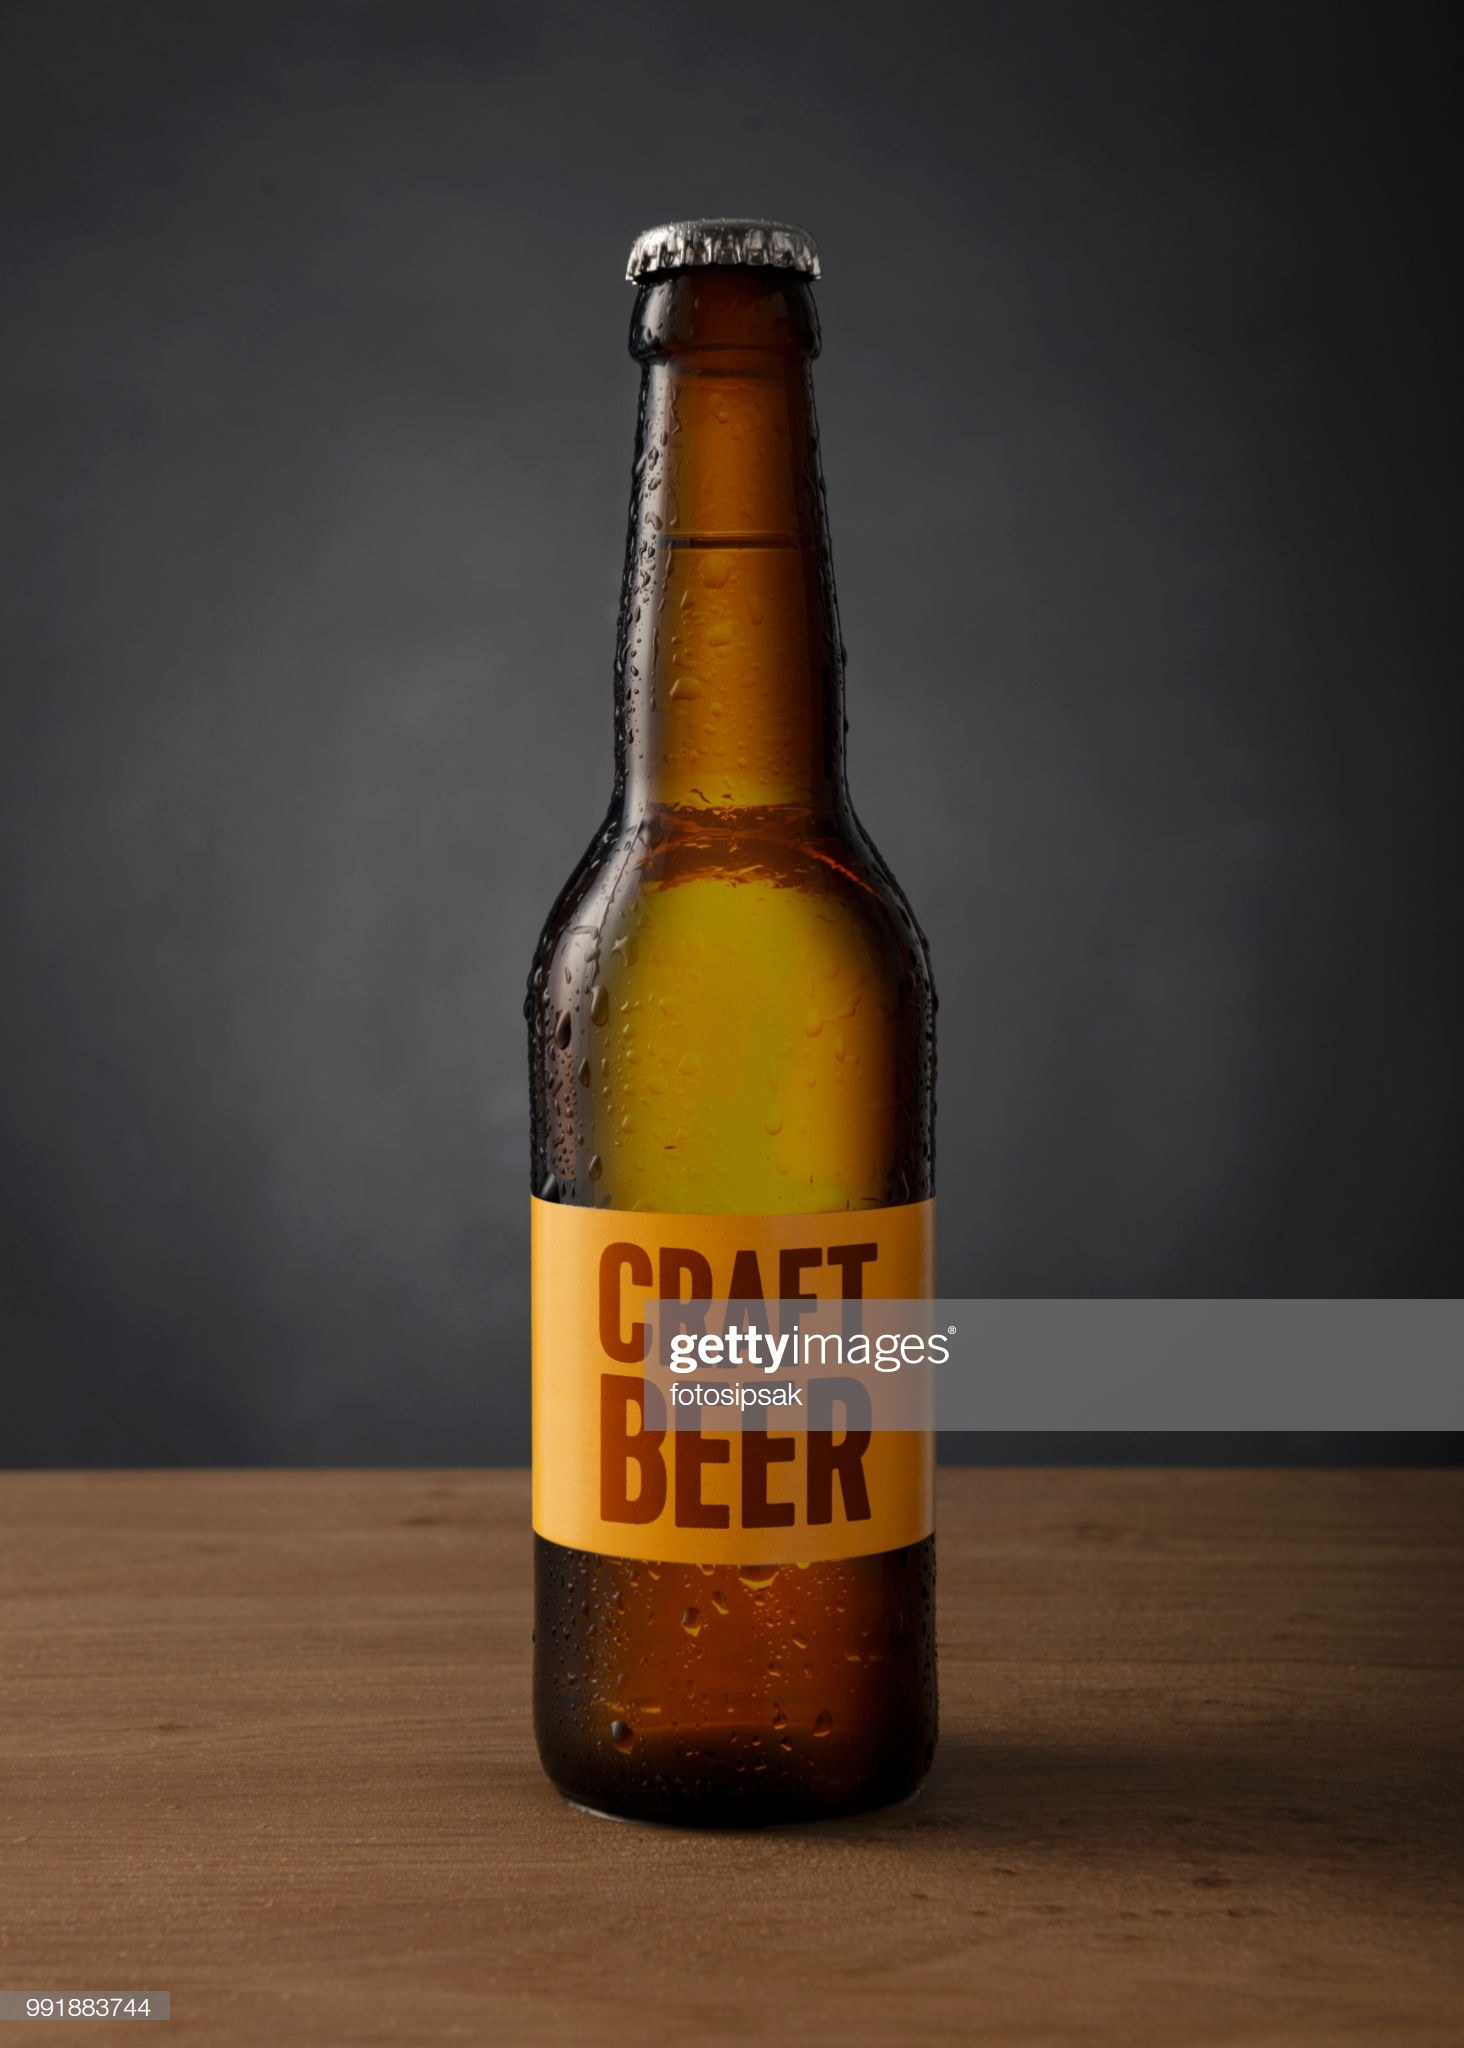beerBottle: (532, 261, 943, 1807)
